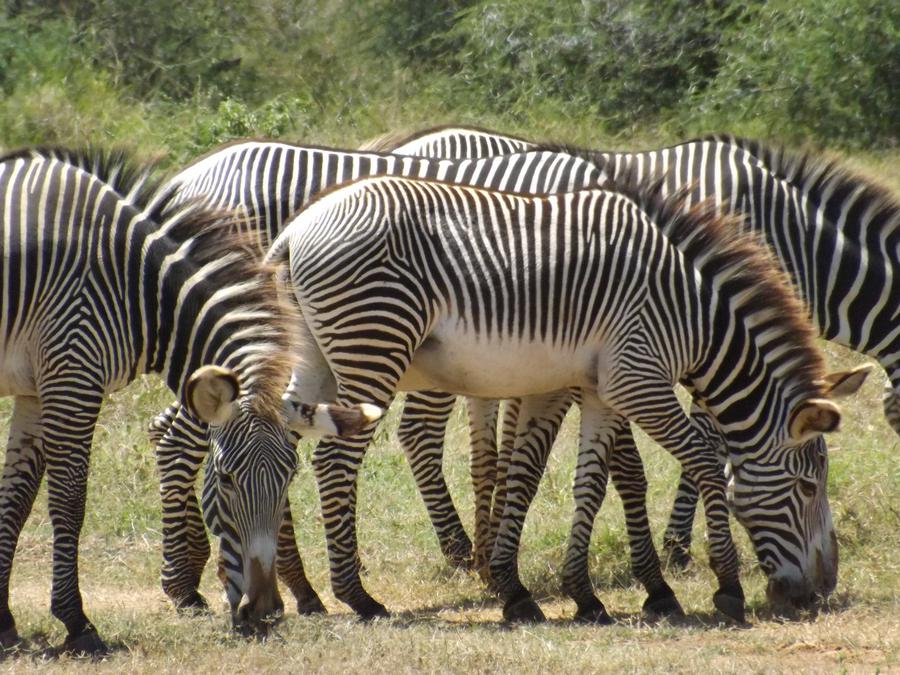zebra_grevys: (282, 170, 682, 391)
